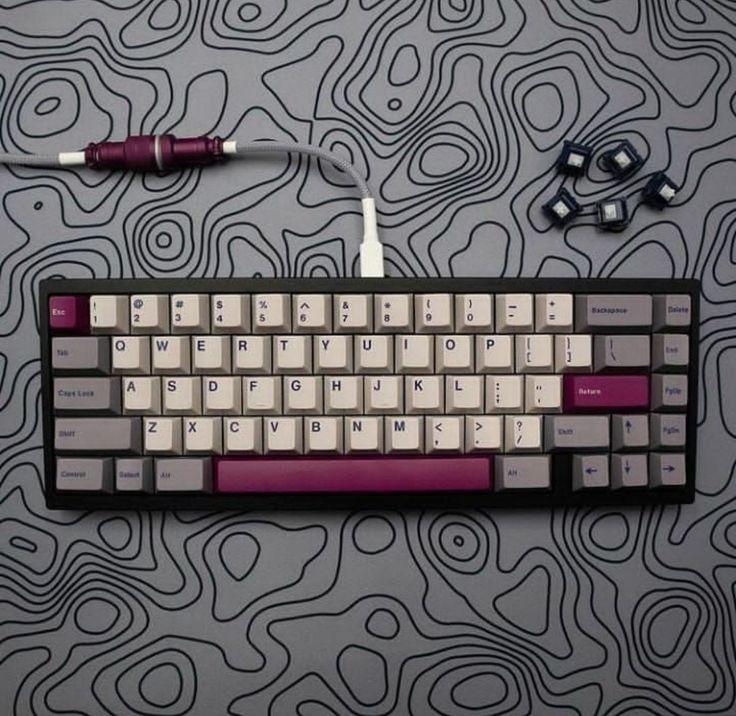keyboard: (39, 275, 701, 510)
